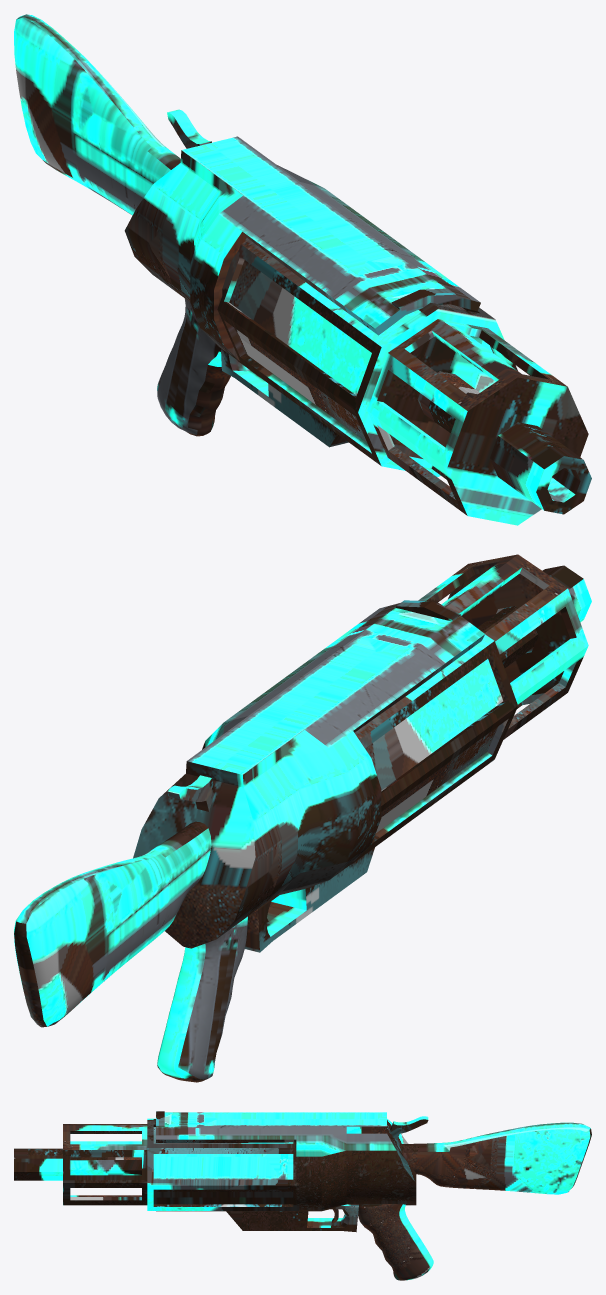
The model's file is Revolver.fbx.
The picture shows the model from 3 angles, top to bottom: view 1: azimuth 30°, elevation 25°; view 2: azimuth 150°, elevation 25°; view 3: azimuth 270°, elevation 25°; orthographic projection. The views are drawn at different scales.
Parts seen in each view (by area): view 1: Cylinder.163, Cylinder.154, Cylinder.162, Cylinder.164, Cylinder.181, Cylinder.167, Cylinder.161; view 2: Cylinder.163, Cylinder.164, Cylinder.162, Cylinder.154, Cylinder.181, Cylinder.167, Cylinder.161; view 3: Cylinder.163, Cylinder.162, Cylinder.164, Cylinder.154, Cylinder.181, Cylinder.167, Cylinder.161.
Part boxes in pixels (box(x1,y1,x2,y2)): Cylinder.163: box(124, 136, 480, 361); Cylinder.154: box(367, 319, 591, 525); Cylinder.162: box(217, 238, 517, 476); Cylinder.164: box(14, 14, 180, 215); Cylinder.181: box(157, 298, 230, 436); Cylinder.167: box(221, 348, 348, 447); Cylinder.161: box(167, 109, 211, 148); Cylinder.163: box(133, 600, 484, 948); Cylinder.164: box(14, 821, 211, 1027); Cylinder.162: box(351, 602, 517, 864); Cylinder.154: box(418, 554, 591, 739); Cylinder.181: box(157, 916, 247, 1082); Cylinder.167: box(245, 847, 374, 952); Cylinder.161: box(167, 775, 215, 811); Cylinder.163: box(156, 1111, 416, 1211); Cylinder.162: box(147, 1118, 299, 1210); Cylinder.164: box(399, 1122, 591, 1194); Cylinder.154: box(14, 1124, 147, 1205); Cylinder.181: box(358, 1204, 433, 1280); Cylinder.167: box(226, 1204, 358, 1232); Cylinder.161: box(390, 1116, 428, 1140).
Bounding box in the file's own units: 10.91 × 19.51 × 62.8.
